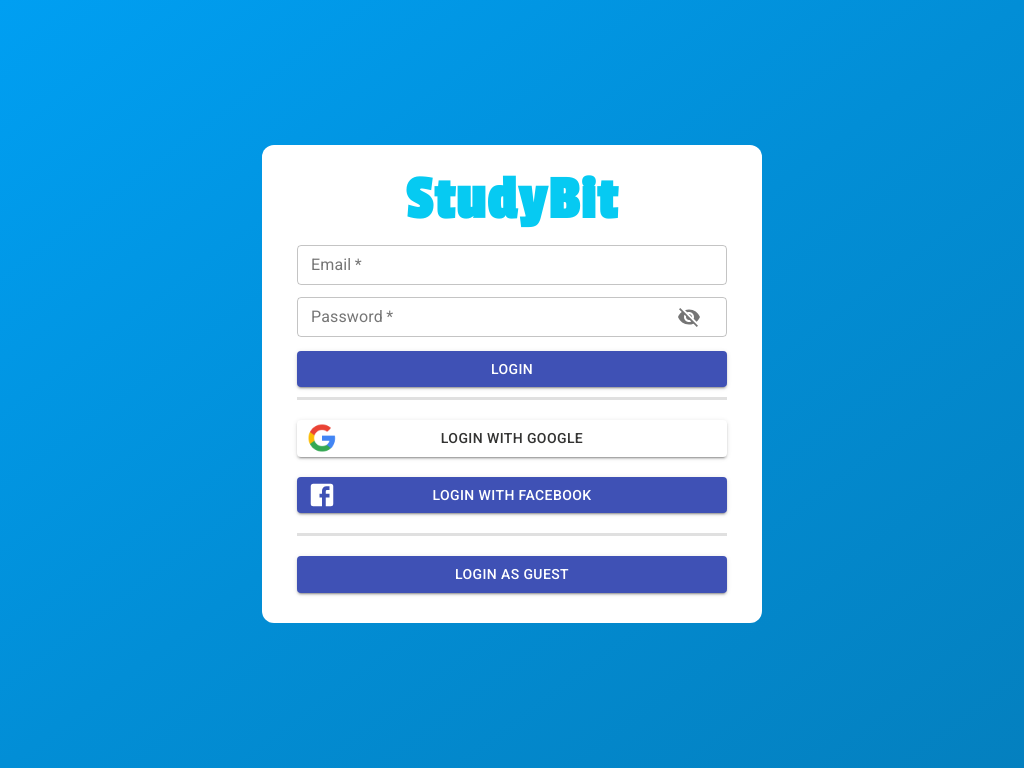
Test: AuthForm › password input › values should be able to toggle visibility
Expected: the icon with test id "not visible" is shown, [677,305,701,329]
Step 1. Click the button with test id "visible button" → click(689, 317), box [665,293,713,341]
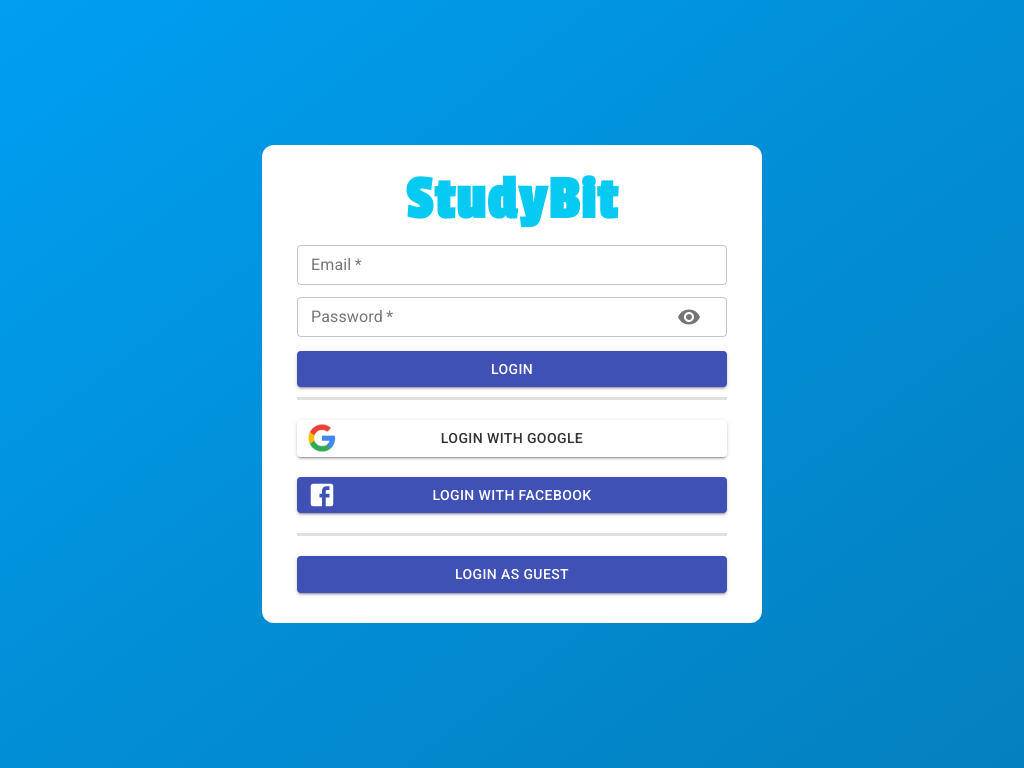
Now the icon with test id "visible" is shown, box [677,305,701,329]
Step 2. Click the button with test id "visible button" → click(689, 317), box [665,293,713,341]
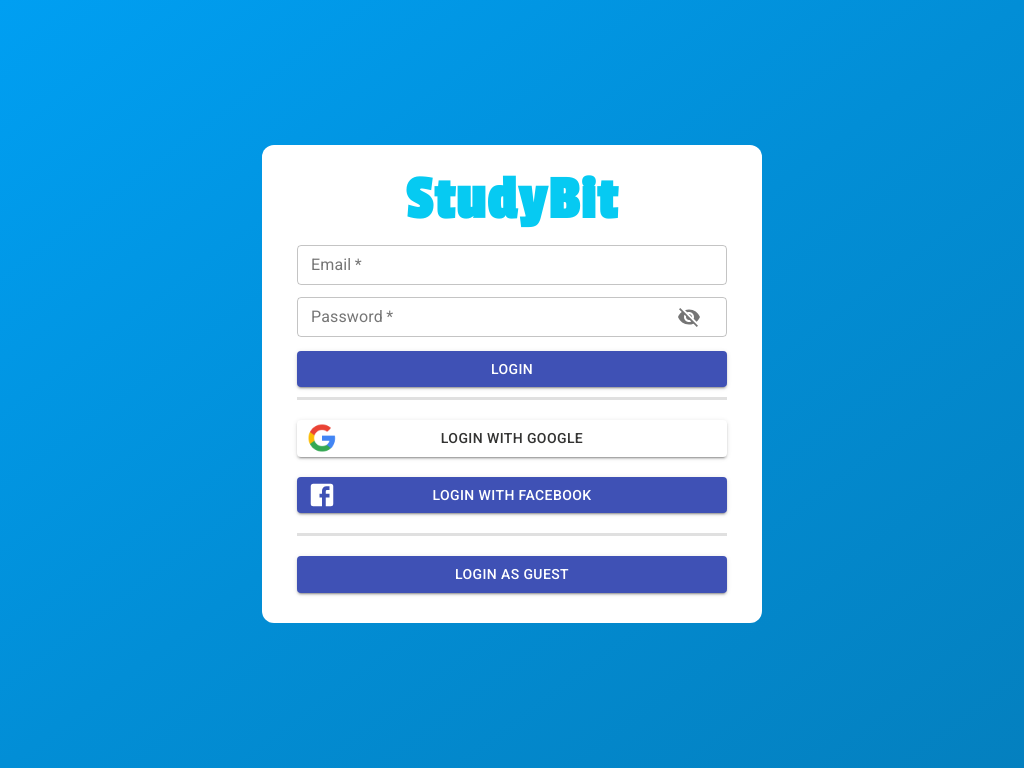
Now the icon with test id "visible" is gone
Now the icon with test id "not visible" is shown, box [677,305,701,329]
